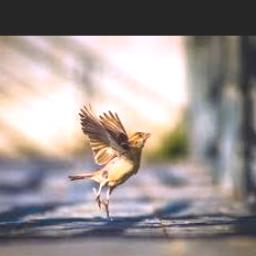Sparrow: (69, 103, 152, 220)
